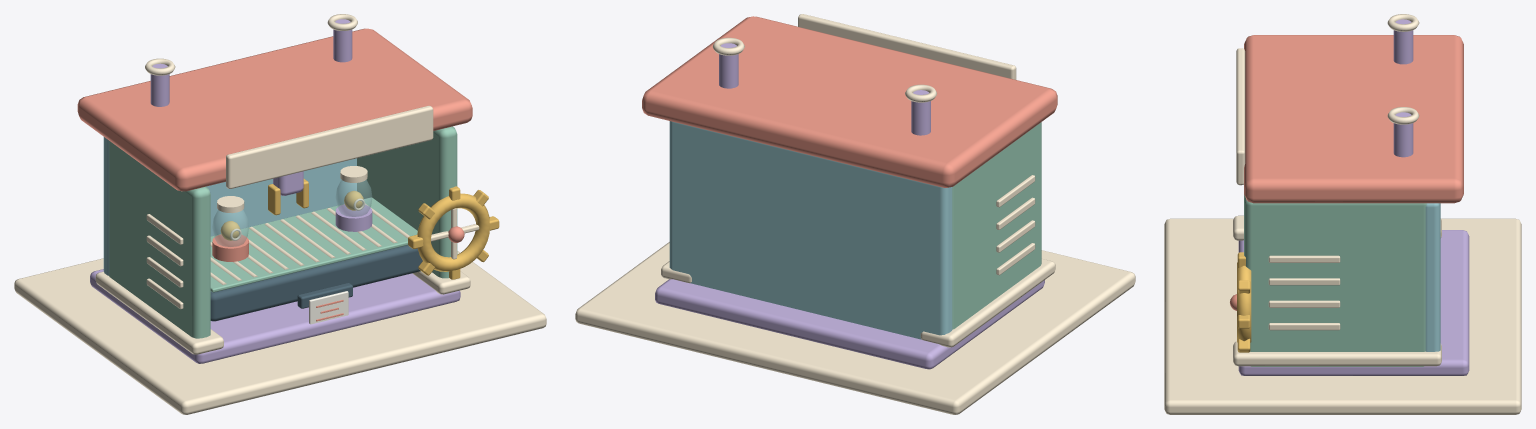
The model's file is landing-foundry.glb.
The picture shows the model from 3 angles, left to right: view 1: azimuth 30°, elevation 25°; view 2: azimuth 150°, elevation 25°; view 3: azimuth 270°, elevation 25°; orthographic projection. The views are drawn at different scales.
Visible parts, largest first — view 1: LivingFoundry, FoundryWheel, FoundryCapsuleB, FoundryCapsuleA, FoundryArm, FoundryTicket; view 2: LivingFoundry; view 3: LivingFoundry, FoundryWheel.
Part boxes in pixels (x1,y1,x2,y2): LivingFoundry: [14, 14, 546, 414]; FoundryWheel: [408, 186, 499, 279]; FoundryCapsuleB: [335, 166, 372, 231]; FoundryCapsuleA: [212, 196, 248, 261]; FoundryArm: [268, 171, 308, 215]; FoundryTicket: [309, 291, 348, 324]; LivingFoundry: [575, 14, 1135, 414]; LivingFoundry: [1164, 14, 1521, 414]; FoundryWheel: [1230, 252, 1251, 352].
Bounding box in the file's own units: 8 × 5.18 × 6.5.
